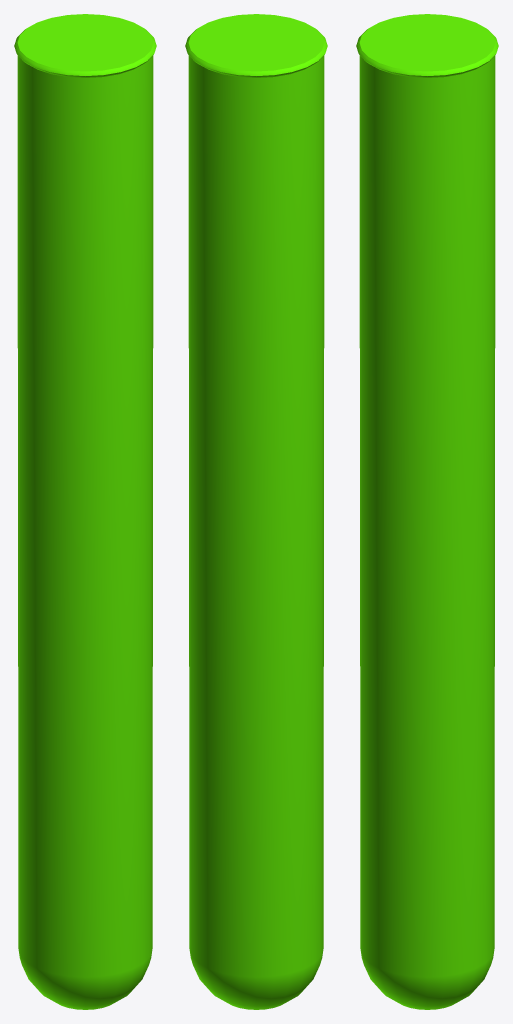
The model's file is TestTube_MZ.FBX.
3 views of the same model, side by side, from view 1: azimuth 30°, elevation 25°; view 2: azimuth 150°, elevation 25°; view 3: azimuth 270°, elevation 25° (orthographic).
Visible parts, largest first — view 1: Sphere001; view 2: Sphere001; view 3: Sphere001.
Boxes of the visible parts, x1,y1,x2,y2 form: Sphere001: (14, 14, 156, 1009); Sphere001: (185, 14, 327, 1009); Sphere001: (356, 14, 498, 1009).
Bounding box in the file's own units: 1.24 × 9.25 × 1.24.
